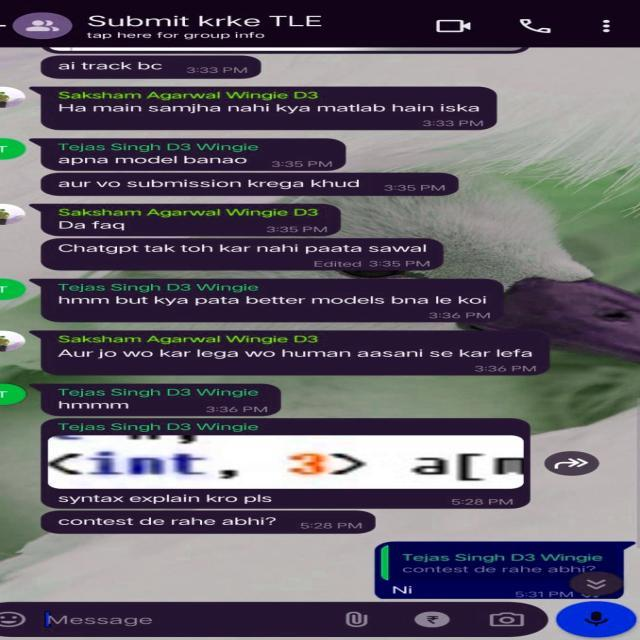scam: (49, 100, 490, 120), (46, 346, 540, 362), (50, 294, 492, 310), (49, 242, 434, 258), (48, 176, 366, 193), (51, 513, 286, 534), (48, 490, 294, 507), (44, 152, 274, 168), (52, 58, 176, 74), (51, 215, 152, 233), (57, 400, 145, 416)
